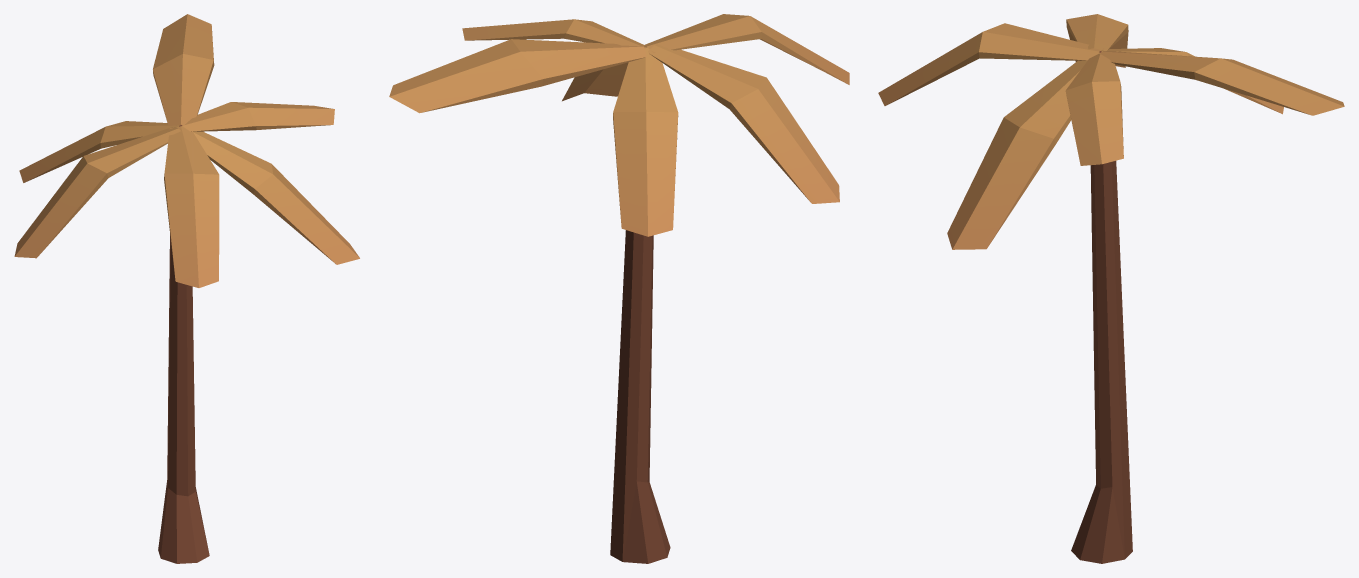
File: Tree_39_gradient_yellow_vc.fbx
3 views of the same model, side by side, from view 1: azimuth 30°, elevation 25°; view 2: azimuth 150°, elevation 25°; view 3: azimuth 270°, elevation 25° (orthographic). The views are drawn at different scales.
Visible parts, largest first — view 1: Tree_39_gradient_yellow_vc; view 2: Tree_39_gradient_yellow_vc; view 3: Tree_39_gradient_yellow_vc.
Part boxes in pixels (x1,y1,x2,y2): Tree_39_gradient_yellow_vc: (14,14,359,563); Tree_39_gradient_yellow_vc: (389,14,849,563); Tree_39_gradient_yellow_vc: (878,14,1344,563).
Size of the model in its own units: 152 by 204 by 166.
